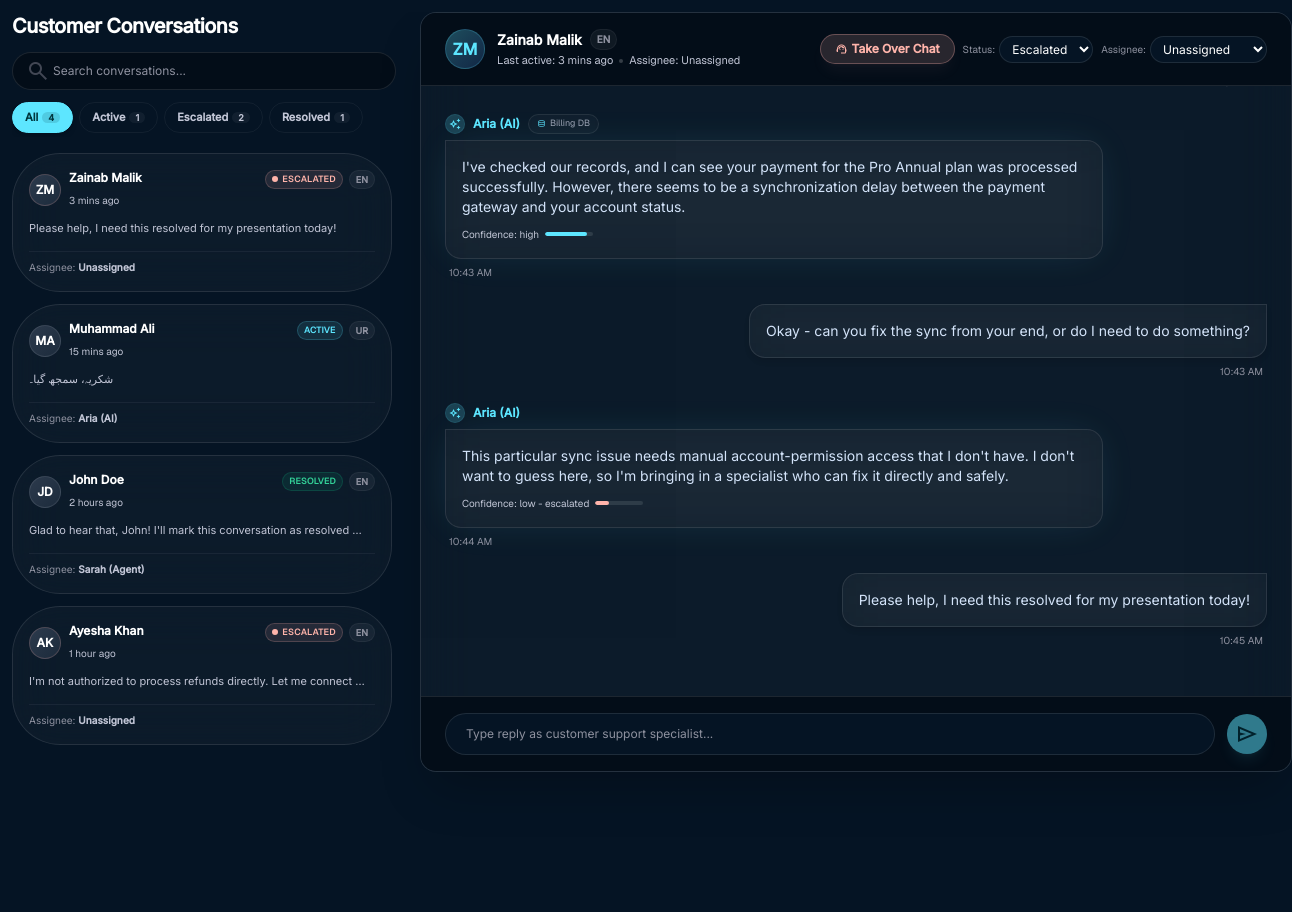
Scenario: ConversationDashboardPage Component › filters conversations by search query
(page scrolled)
Search for 'Muhammad' (not 'Ali' because 'Malik' contains 'ali')
Type "Muhammad" into the field with placeholder "Search conversations...".
click(204, 71); type("Muhammad")  # box [12, 52, 396, 90]
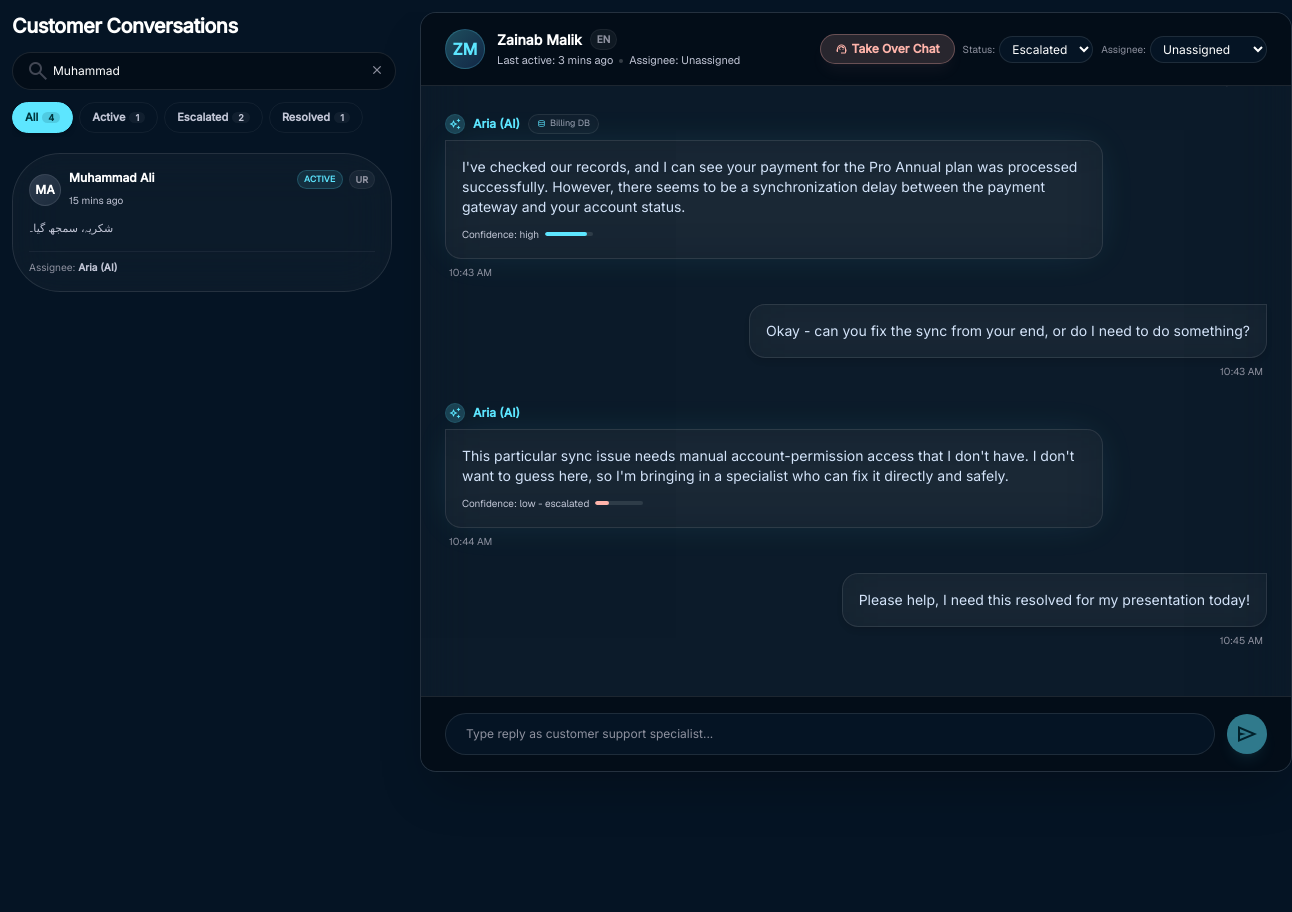
expect the heading "Muhammad Ali" is shown: met, box [69, 170, 154, 186]
Replace the text in the field with placeholder "Search conversations..." with "refund" at (204,71), box [12, 52, 396, 90]
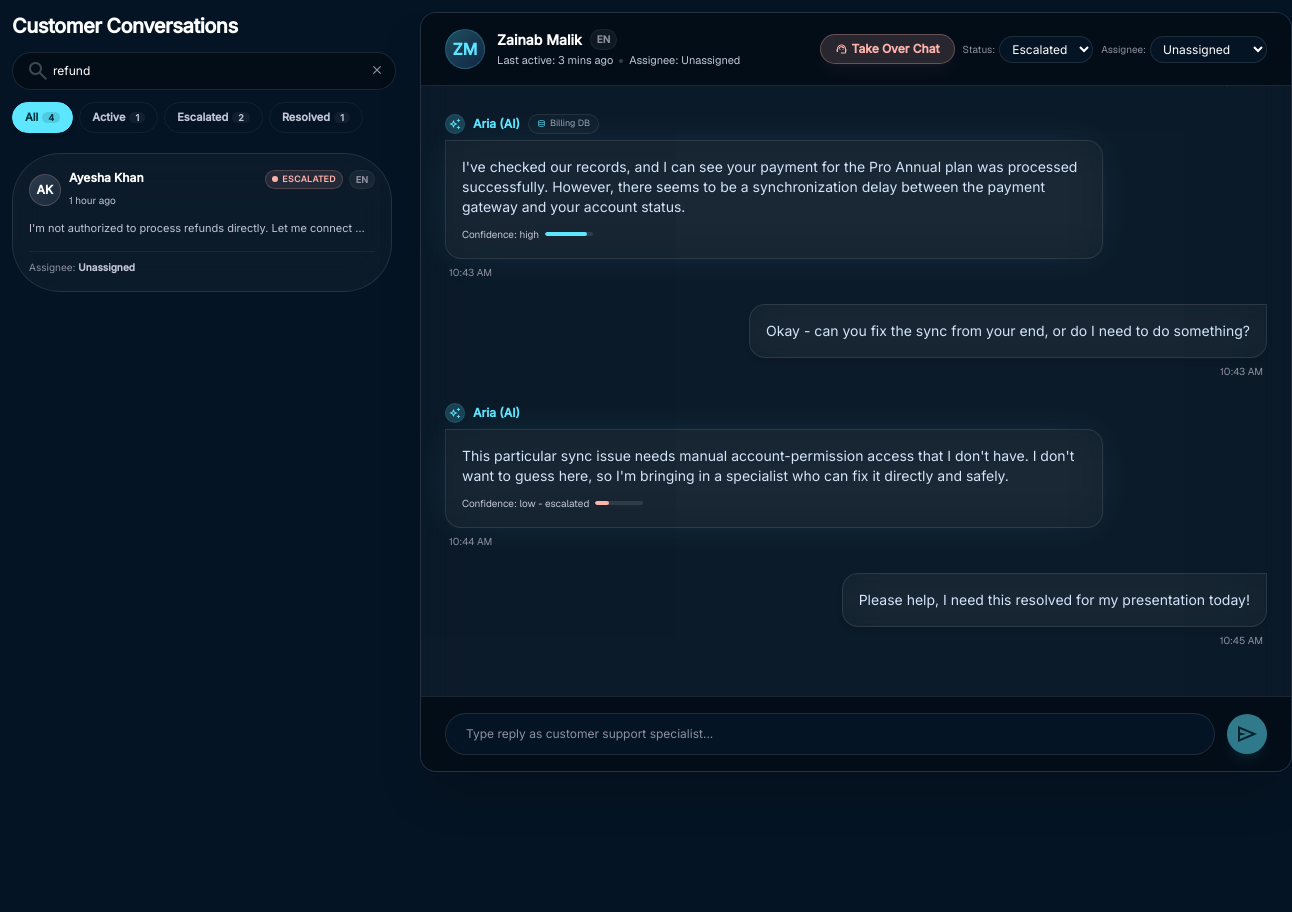
expect the heading "Ayesha Khan" is shown: met, box [69, 170, 144, 186]
expect the heading "Muhammad Ali" is gone: met
